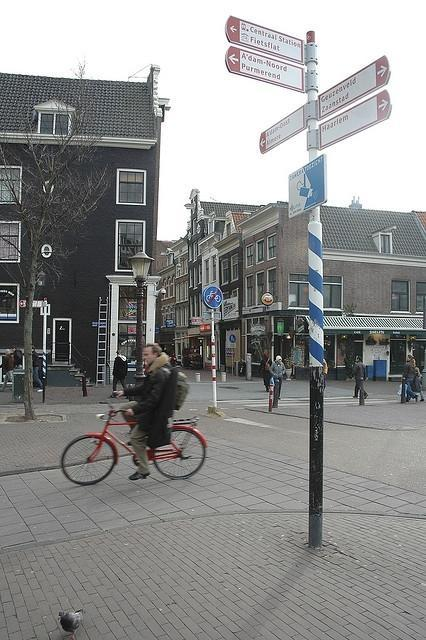bicycle: (56, 410, 206, 490)
